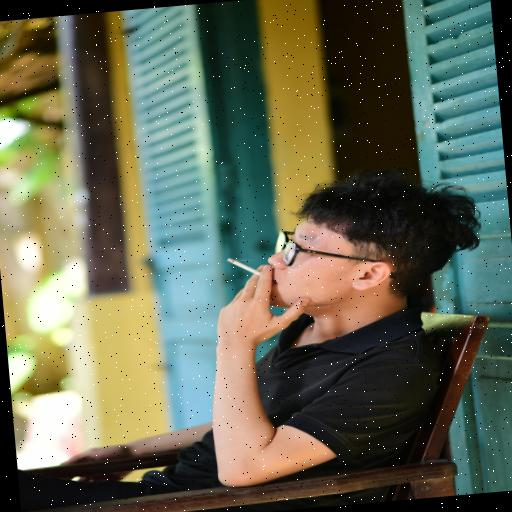terdeteksi merokok: (204, 202, 312, 309)
